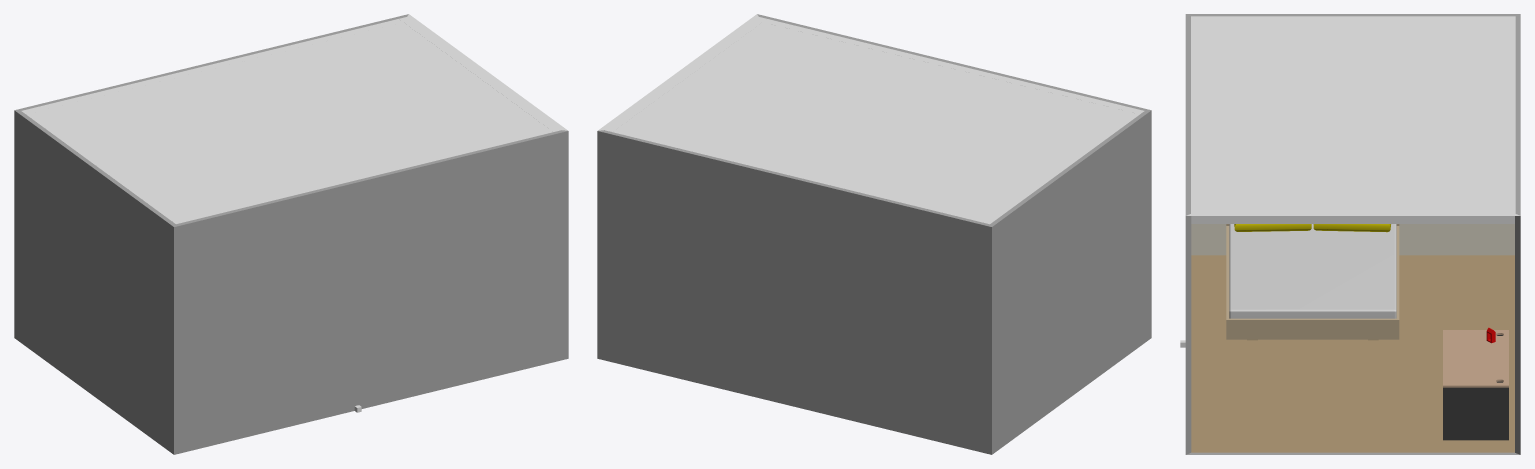
File: bedroom.fbx
The picture shows the model from 3 angles, left to right: view 1: azimuth 30°, elevation 25°; view 2: azimuth 150°, elevation 25°; view 3: azimuth 270°, elevation 25°; orthographic projection. The views are drawn at different scales.
Parts seen in each view (by area): view 1: pCube1, pCube6, pCube5, pCube4, pCube3; view 2: pCube1, pCube6, pCube5, pCube4, pCube3; view 3: pCube1, bed:pCube2, table_complete:pCube1, bed:pCube1, pCube4, pCube5, pCube6, pCube3, bed:pCube6, bed:pCube5.
Boxes of the visible parts, x1,y1,x2,y2 form: pCube1: (14,14,568,454); pCube6: (171,128,561,224); pCube5: (22,19,402,114); pCube4: (399,17,560,131); pCube3: (26,112,178,220); pCube1: (597,14,1151,454); pCube6: (763,19,1143,114); pCube5: (605,129,994,224); pCube4: (605,17,766,131); pCube3: (987,112,1139,220); pCube1: (1185,14,1520,454); bed:pCube2: (1229,224,1396,318); table_complete:pCube1: (1443,330,1508,440); bed:pCube1: (1226,224,1399,339); pCube4: (1191,209,1515,223); pCube5: (1505,16,1515,213); pCube6: (1191,16,1200,213); pCube3: (1200,16,1505,20); bed:pCube6: (1313,224,1390,232); bed:pCube5: (1234,224,1311,231).
Bounding box in the file's own units: 435 × 241 × 310.
